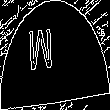M_S: (42, 28, 68, 82)
